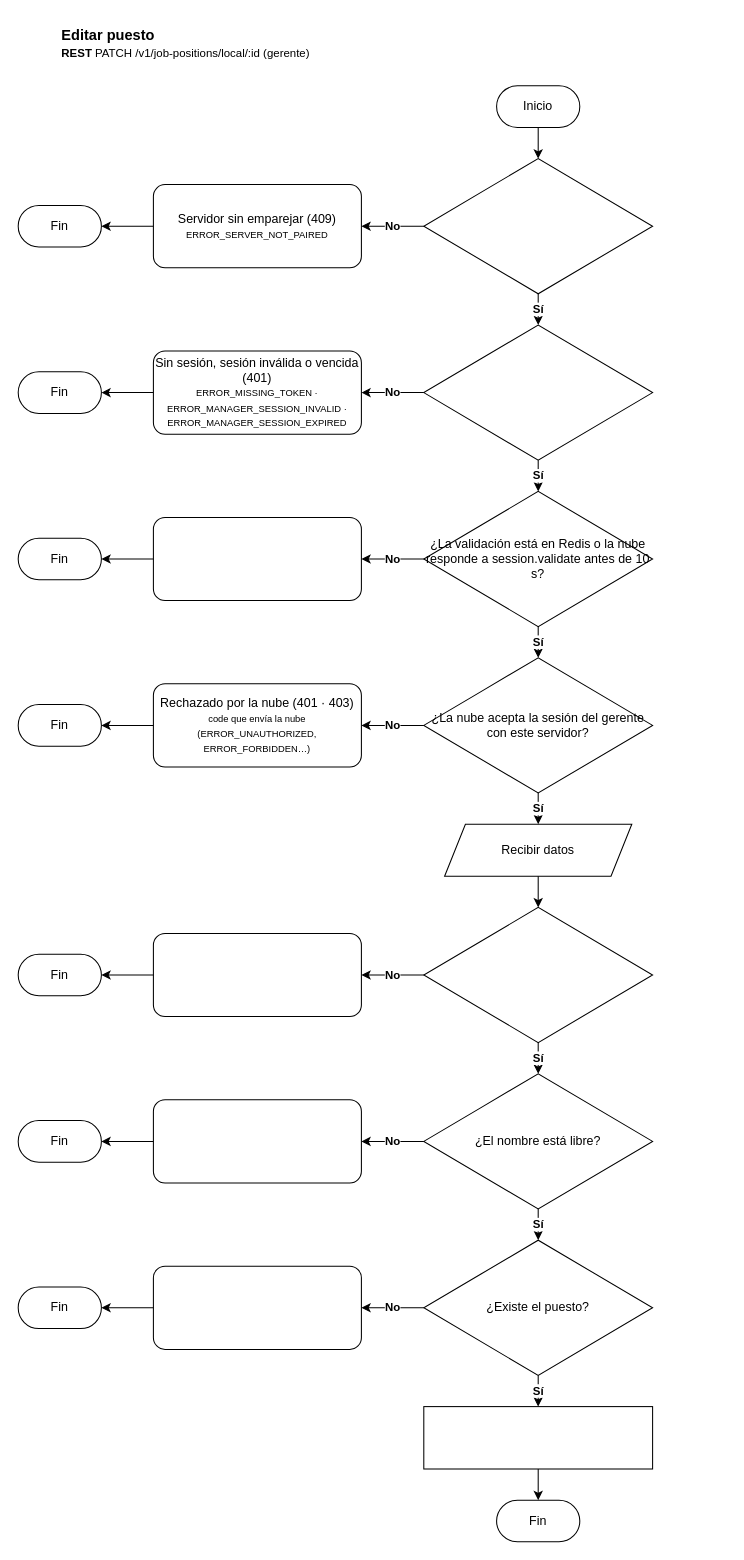
Some shapes in this 744 by 1560 pixel diagram are drawn without their labels. Each missing label, with the box of its shape:
Datos inválidos (400) ERROR_BAD_REQUEST: (152, 932, 361, 1017)
La nube no responde (503) ERROR_CLOUD_UNAVAILABLE · ERROR_SERVER_UNLINKED: (152, 516, 361, 601)
No se encontró el puesto (404) ERROR_JOB_POSITION_NOT_FOUND: (152, 1265, 361, 1349)
Responder 200 con el mensaje JOB_POSITION_UPDATED: (423, 1406, 653, 1469)
Ya existe un puesto con ese nombre (409) ERROR_JOB_POSITION_NAME_ALREADY_IN_USE: (152, 1099, 361, 1183)
¿El servidor ya se emparejó alguna vez (pairing_status distinto de unpaired)?: (423, 158, 653, 294)
¿Los datos son válidos?: (423, 906, 653, 1043)
¿Trae una sesión de gerente válida (Bearer mss_..., sin 30 min de inactividad)?: (423, 324, 653, 460)
